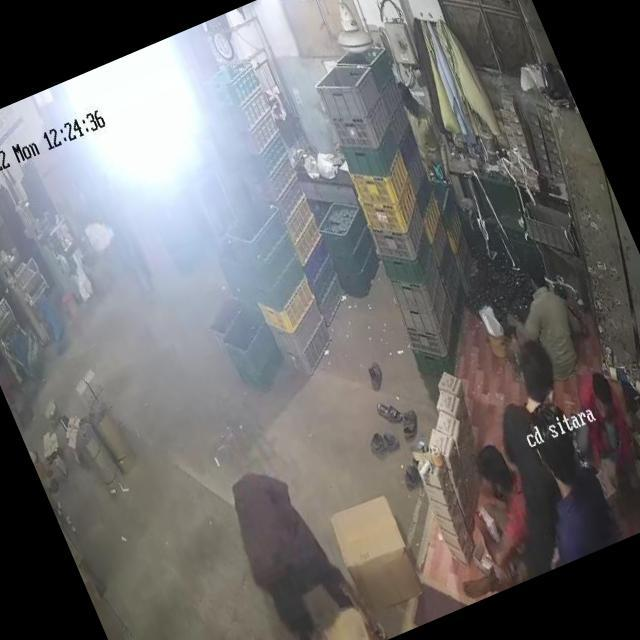person: (216, 451, 357, 640), (514, 394, 621, 560), (447, 444, 544, 562), (493, 330, 582, 442), (570, 360, 640, 470), (513, 264, 581, 370)
